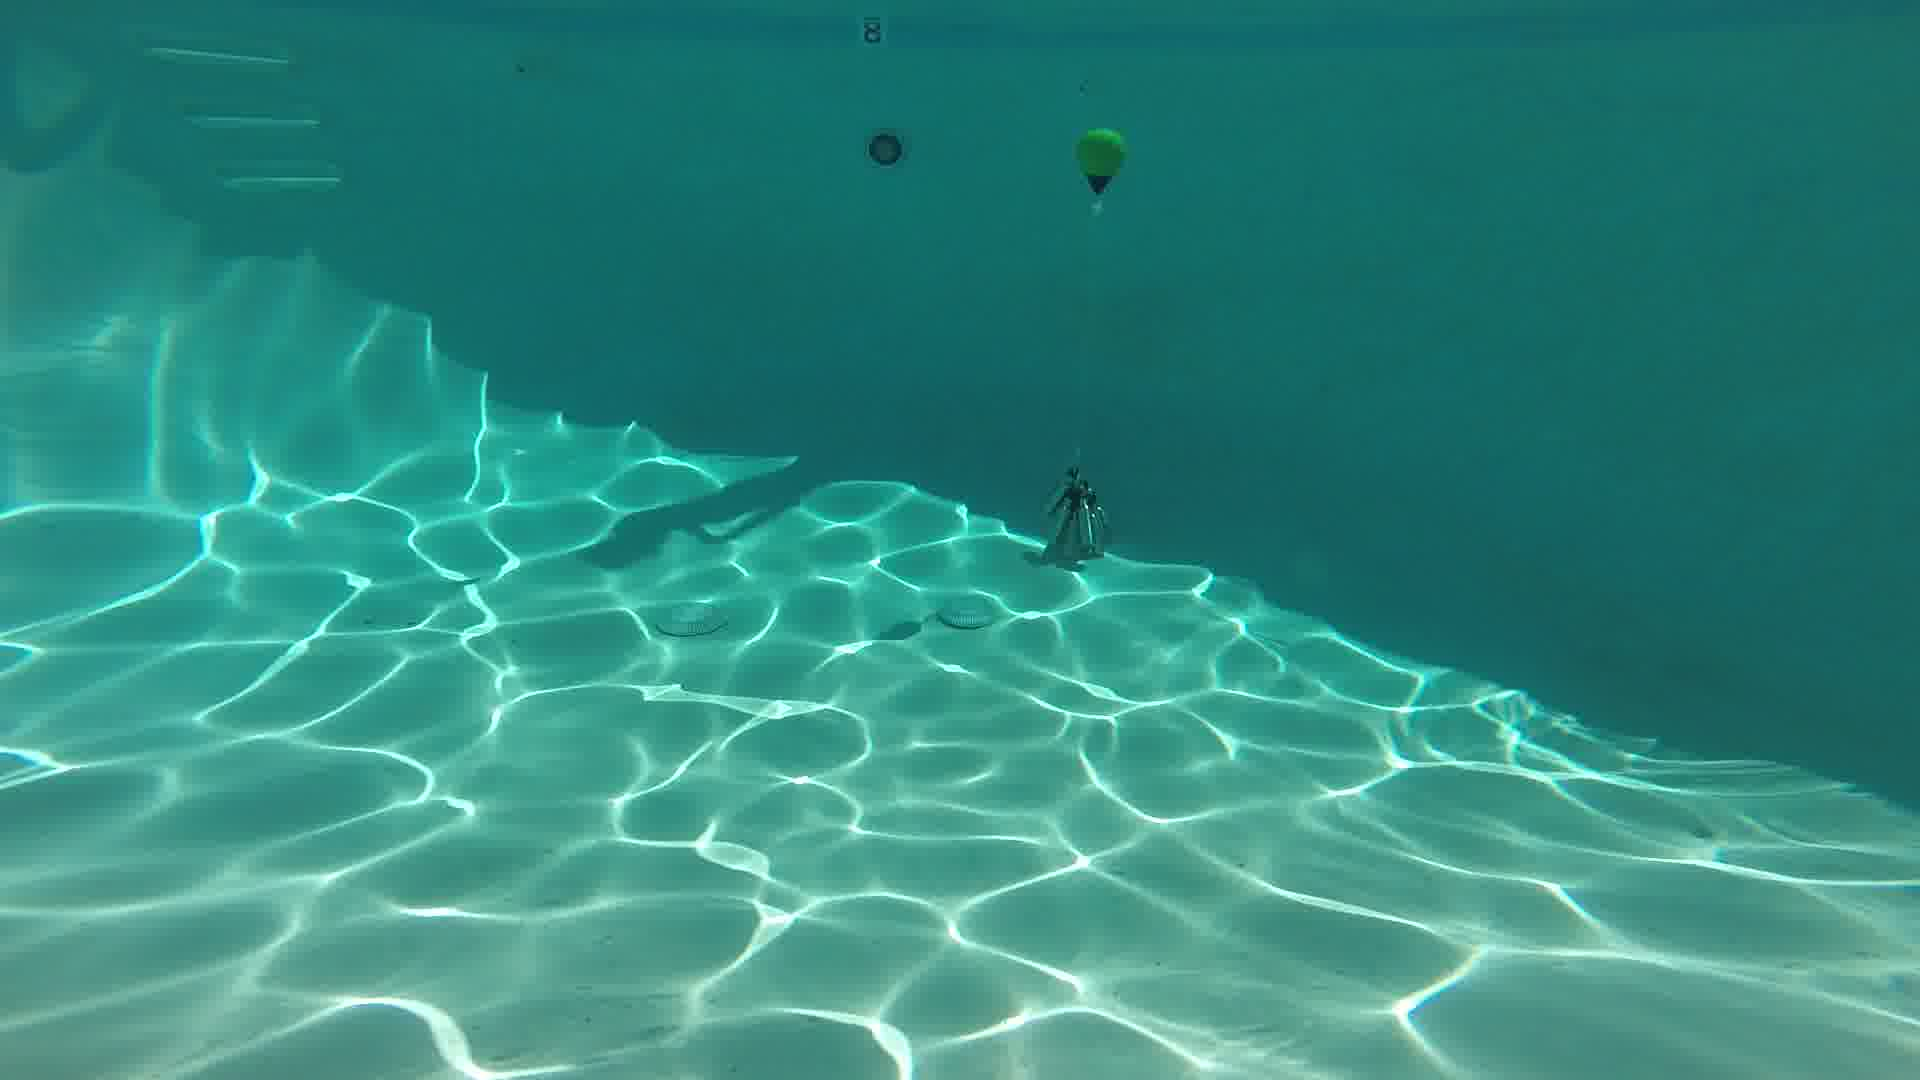yellow_buoy: (1077, 128, 1124, 196)
